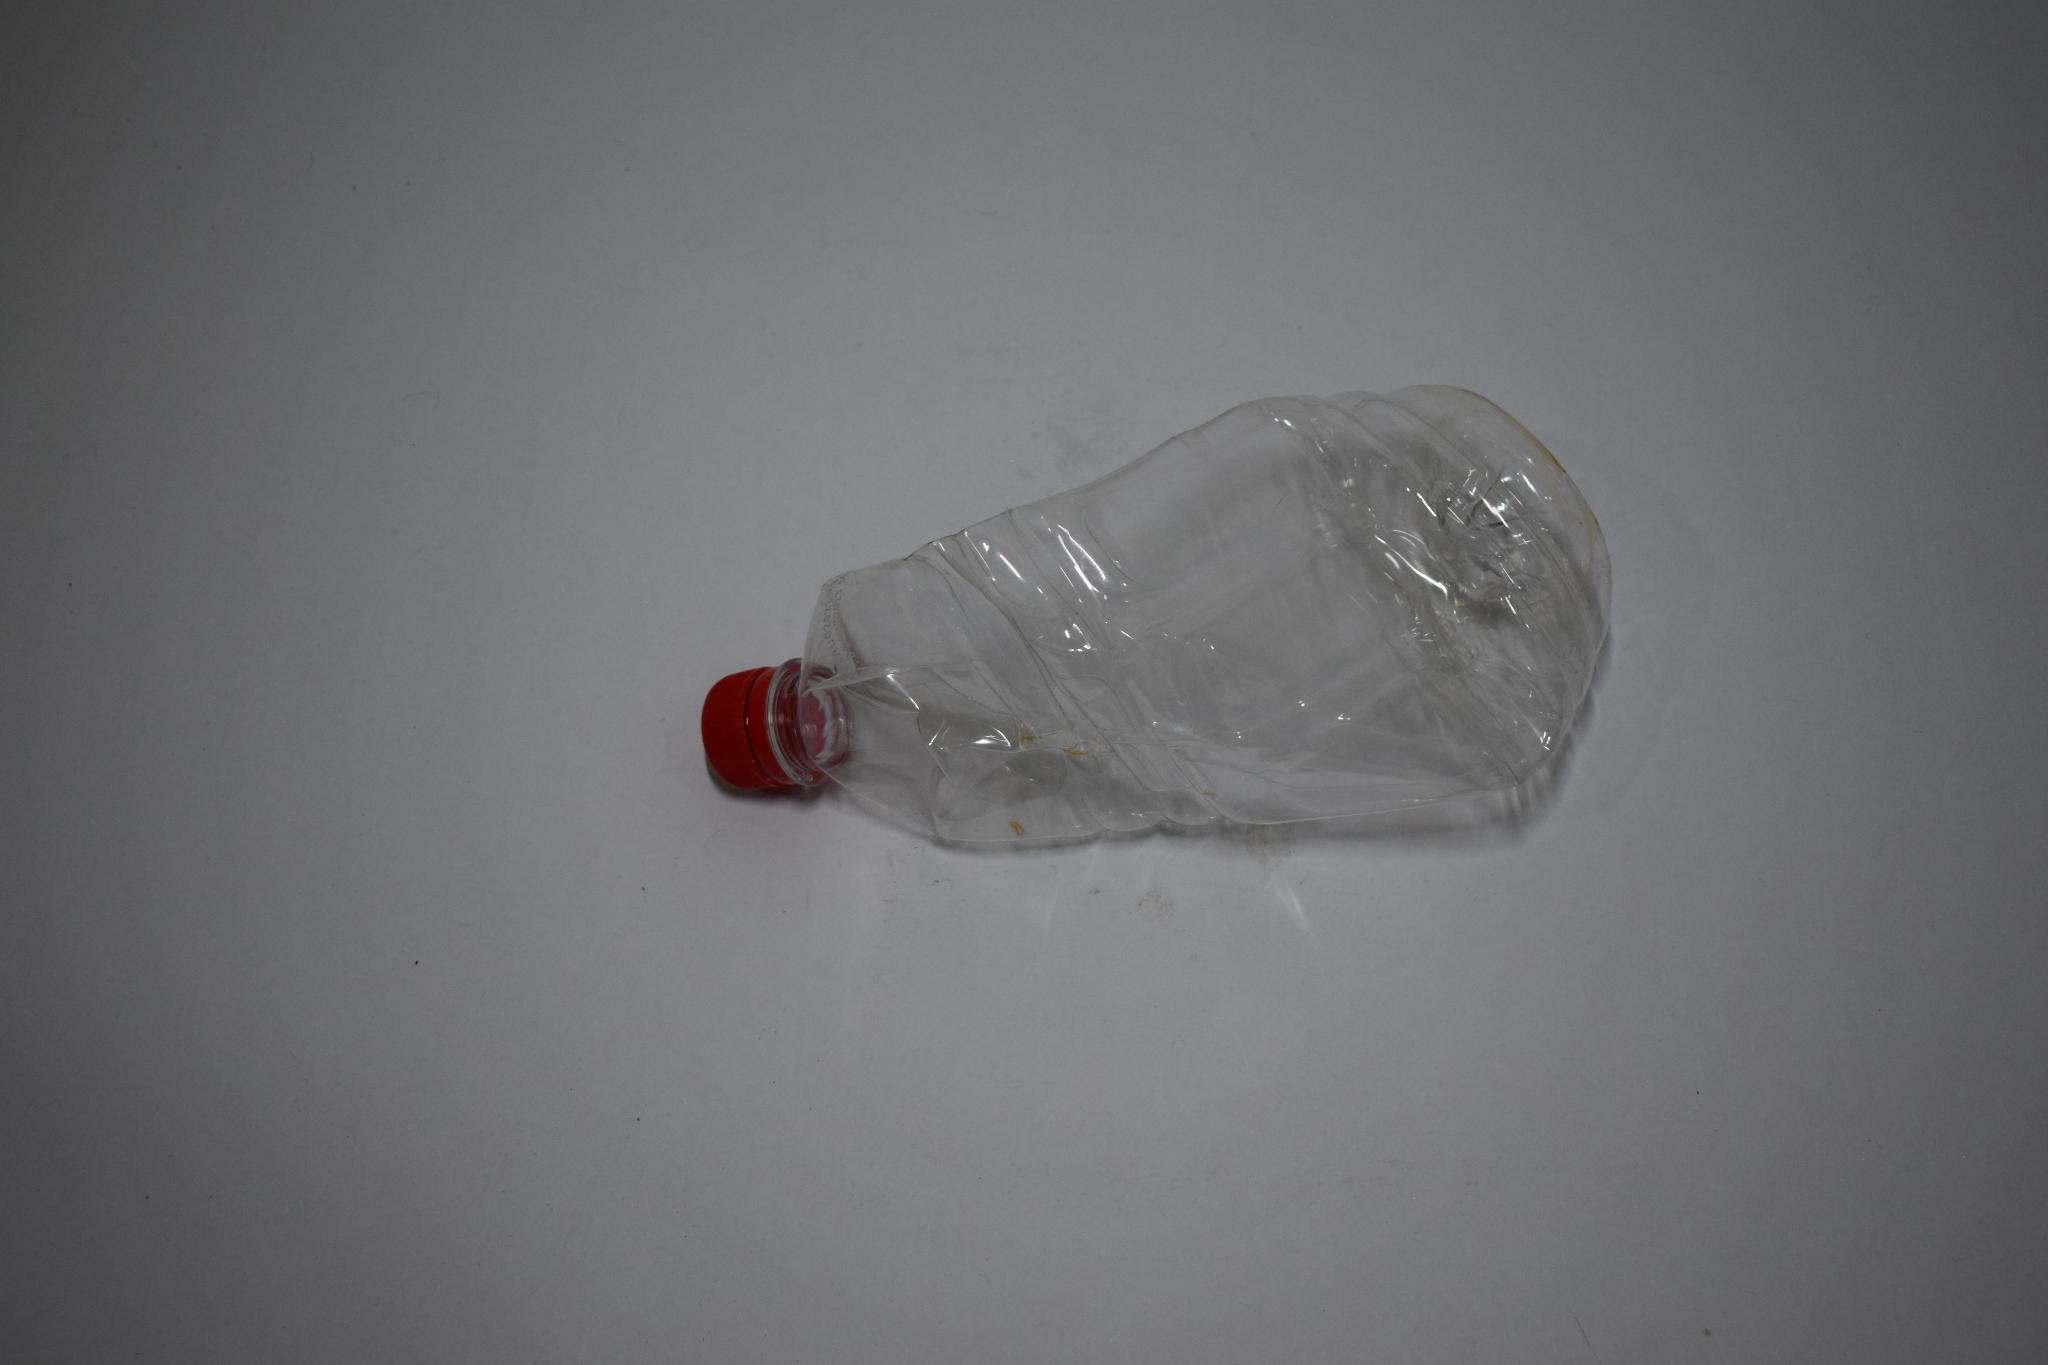bottle: (710, 373, 1622, 864)
